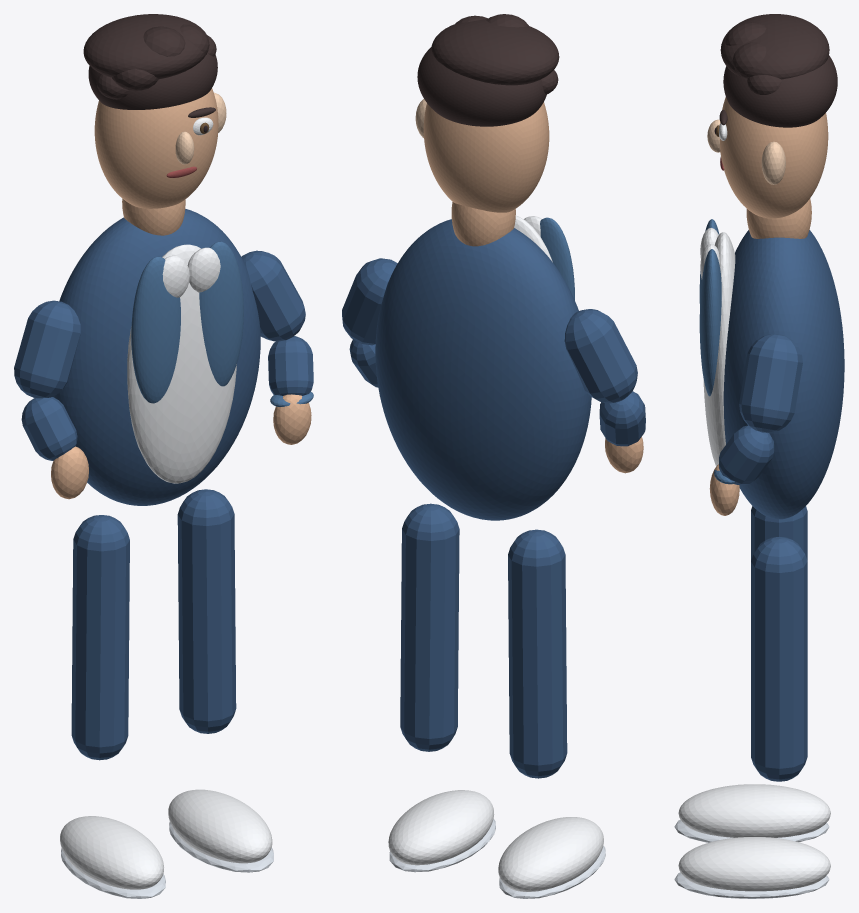
The model's file is voxa-presenter.glb.
3 views of the same model, side by side, from view 1: azimuth 30°, elevation 25°; view 2: azimuth 150°, elevation 25°; view 3: azimuth 270°, elevation 25° (orthographic).
Visible parts, largest first — view 1: jacket_torso, left_trouser_leg, right_trouser_leg, shirt, face, right_shoe, left_shoe, left_lapel, hair_sweep, left_upper_sleeve, right_lapel, right_upper_sleeve (+12 smaller); view 2: jacket_torso, left_trouser_leg, right_trouser_leg, face, hair_sweep, right_shoe, left_shoe, hair_cap, left_upper_sleeve, right_upper_sleeve, neck, left_forearm_sleeve (+5 smaller); view 3: jacket_torso, right_trouser_leg, face, right_shoe, left_shoe, right_upper_sleeve, hair_cap, hair_sweep, shirt, right_lapel, right_forearm_sleeve, left_trouser_leg (+8 smaller).
Part boxes in pixels (box(x1,y1,x2,y2)): jacket_torso: box(52, 209, 260, 505); left_trouser_leg: box(71, 515, 129, 760); right_trouser_leg: box(177, 489, 236, 733); shirt: box(127, 244, 236, 483); face: box(94, 88, 218, 208); right_shoe: box(168, 789, 272, 863); left_shoe: box(60, 816, 163, 889); left_lapel: box(131, 256, 180, 403); hair_sweep: box(83, 14, 208, 79); left_upper_sleeve: box(14, 300, 80, 398); right_lapel: box(199, 241, 243, 386); right_upper_sleeve: box(241, 250, 305, 341); jacket_torso: box(375, 219, 591, 520); left_trouser_leg: box(508, 529, 567, 778); right_trouser_leg: box(400, 503, 459, 751); face: box(423, 102, 549, 212); hair_sweep: box(431, 18, 559, 85); right_shoe: box(388, 790, 494, 865); left_shoe: box(498, 817, 603, 891); hair_cap: box(417, 47, 546, 126); left_upper_sleeve: box(564, 309, 637, 403); right_upper_sleeve: box(342, 258, 397, 345); neck: box(451, 202, 515, 246); left_forearm_sleeve: box(599, 391, 645, 446); jacket_torso: box(723, 230, 844, 519); right_trouser_leg: box(751, 537, 807, 781); face: box(720, 97, 828, 218); right_shoe: box(678, 837, 830, 891); left_shoe: box(678, 784, 830, 837); right_upper_sleeve: box(739, 334, 802, 432); hair_cap: box(723, 55, 837, 127); hair_sweep: box(720, 14, 829, 79); shirt: box(703, 232, 735, 466); right_lapel: box(699, 249, 721, 396); right_forearm_sleeve: box(719, 425, 774, 484); left_trouser_leg: box(751, 506, 807, 560).
Size of the model in its own units: 1.21 by 3.38 by 0.625.
